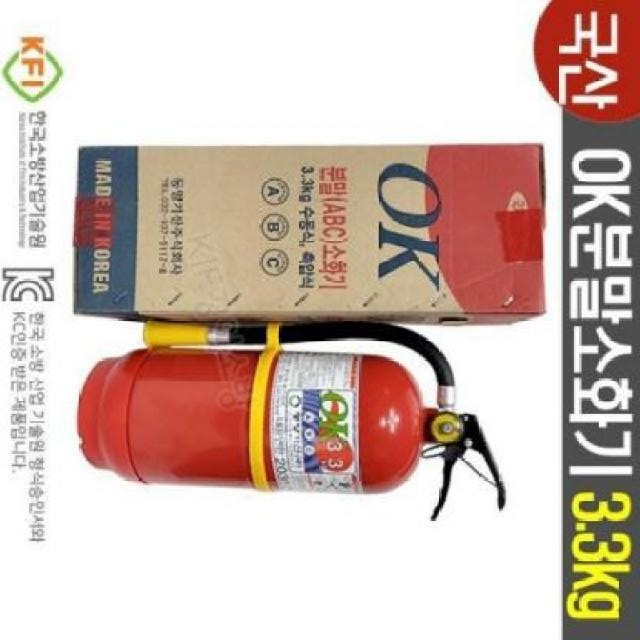fire extinguisher: (75, 318, 508, 522)
